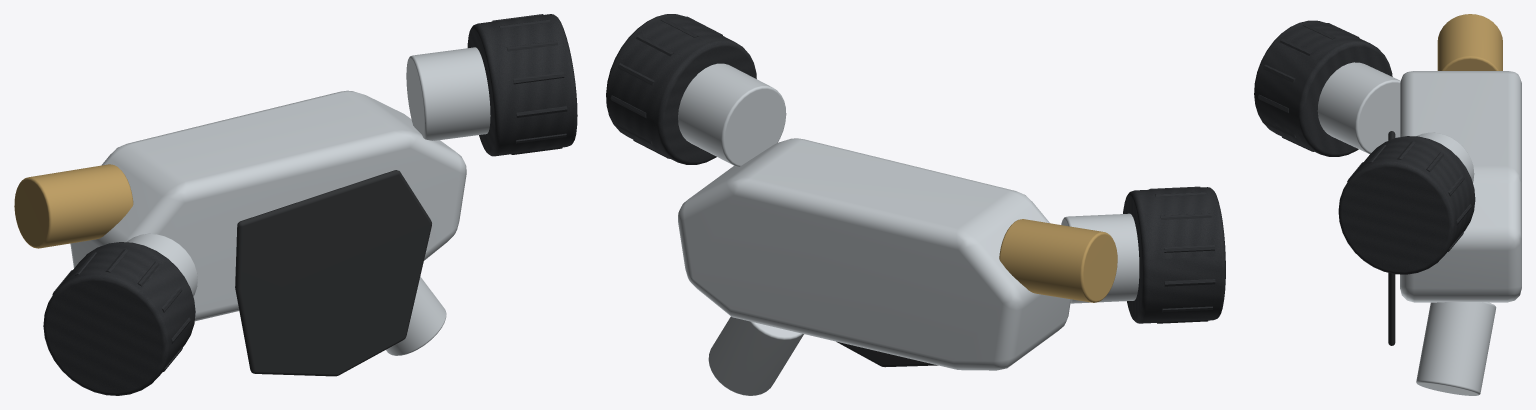
The model's file is SL17B_SideBlockControls_v2.glb.
3 views of the same model, side by side, from view 1: azimuth 30°, elevation 25°; view 2: azimuth 150°, elevation 25°; view 3: azimuth 270°, elevation 25° (orthographic). The views are drawn at different scales.
Parts seen in each view (by area): view 1: SideBlock_505-024_OuterBody_ESTIMATED, SideBlock_BlankLabel_Interpretive, EmergencyValve_505-070_Knob_520-525_Knob_POLYURETHANE_ESTIMA, SteadyFlow_Knob_520-524_Knob_POLYURETHANE_ESTIMATED, Supply_UpperConnector_ESTIMATED, SteadyFlow_Knob_520-524_MetalStem_ESTIMATED, BentTube_LowerConnector_ESTIMATED, EmergencyValve_505-070_Knob_520-525_MetalStem_ESTIMATED; view 2: SideBlock_505-024_OuterBody_ESTIMATED, SteadyFlow_Knob_520-524_Knob_POLYURETHANE_ESTIMATED, EmergencyValve_505-070_Knob_520-525_Knob_POLYURETHANE_ESTIMA, SteadyFlow_Knob_520-524_MetalStem_ESTIMATED, Supply_UpperConnector_ESTIMATED, BentTube_LowerConnector_ESTIMATED, EmergencyValve_505-070_Knob_520-525_MetalStem_ESTIMATED, SideBlock_BlankLabel_Interpretive; view 3: SideBlock_505-024_OuterBody_ESTIMATED, SteadyFlow_Knob_520-524_Knob_POLYURETHANE_ESTIMATED, EmergencyValve_505-070_Knob_520-525_Knob_POLYURETHANE_ESTIMA, BentTube_LowerConnector_ESTIMATED, EmergencyValve_505-070_Knob_520-525_MetalStem_ESTIMATED, Supply_UpperConnector_ESTIMATED, SteadyFlow_Knob_520-524_MetalStem_ESTIMATED, SideBlock_BlankLabel_Interpretive.
Part boxes in pixels (x1=…): SideBlock_505-024_OuterBody_ESTIMATED: x1=70, y1=90, x2=466, y2=321; SideBlock_BlankLabel_Interpretive: x1=235, y1=170, x2=431, y2=376; EmergencyValve_505-070_Knob_520-525_Knob_POLYURETHANE_ESTIMA: x1=43, y1=242, x2=195, y2=395; SteadyFlow_Knob_520-524_Knob_POLYURETHANE_ESTIMATED: x1=467, y1=14, x2=577, y2=156; Supply_UpperConnector_ESTIMATED: x1=14, y1=164, x2=133, y2=248; SteadyFlow_Knob_520-524_MetalStem_ESTIMATED: x1=406, y1=47, x2=490, y2=140; BentTube_LowerConnector_ESTIMATED: x1=386, y1=277, x2=446, y2=355; EmergencyValve_505-070_Knob_520-525_MetalStem_ESTIMATED: x1=126, y1=233, x2=197, y2=296; SideBlock_505-024_OuterBody_ESTIMATED: x1=678, y1=138, x2=1070, y2=370; SteadyFlow_Knob_520-524_Knob_POLYURETHANE_ESTIMATED: x1=606, y1=14, x2=756, y2=164; EmergencyValve_505-070_Knob_520-525_Knob_POLYURETHANE_ESTIMA: x1=1123, y1=187, x2=1225, y2=323; SteadyFlow_Knob_520-524_MetalStem_ESTIMATED: x1=678, y1=63, x2=786, y2=166; Supply_UpperConnector_ESTIMATED: x1=999, y1=219, x2=1117, y2=302; BentTube_LowerConnector_ESTIMATED: x1=708, y1=316, x2=803, y2=395; EmergencyValve_505-070_Knob_520-525_MetalStem_ESTIMATED: x1=1061, y1=213, x2=1139, y2=303; SideBlock_BlankLabel_Interpretive: x1=836, y1=341, x2=937, y2=367; SideBlock_505-024_OuterBody_ESTIMATED: x1=1400, y1=71, x2=1521, y2=302; SteadyFlow_Knob_520-524_Knob_POLYURETHANE_ESTIMATED: x1=1338, y1=136, x2=1475, y2=274; EmergencyValve_505-070_Knob_520-525_Knob_POLYURETHANE_ESTIMA: x1=1254, y1=20, x2=1392, y2=156; BentTube_LowerConnector_ESTIMATED: x1=1416, y1=302, x2=1496, y2=395; EmergencyValve_505-070_Knob_520-525_MetalStem_ESTIMATED: x1=1317, y1=62, x2=1400, y2=153; Supply_UpperConnector_ESTIMATED: x1=1437, y1=14, x2=1502, y2=70; SteadyFlow_Knob_520-524_MetalStem_ESTIMATED: x1=1416, y1=132, x2=1474, y2=182; SideBlock_BlankLabel_Interpretive: x1=1388, y1=131, x2=1395, y2=345.
Bounding box in the file's own units: 0.2523 × 0.1382 × 0.1142.
4 materials, 1 textured.
